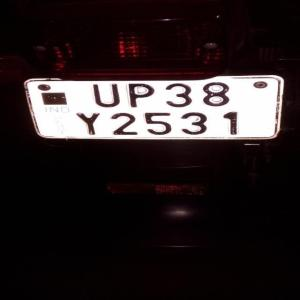Plate: (25, 74, 282, 141)
